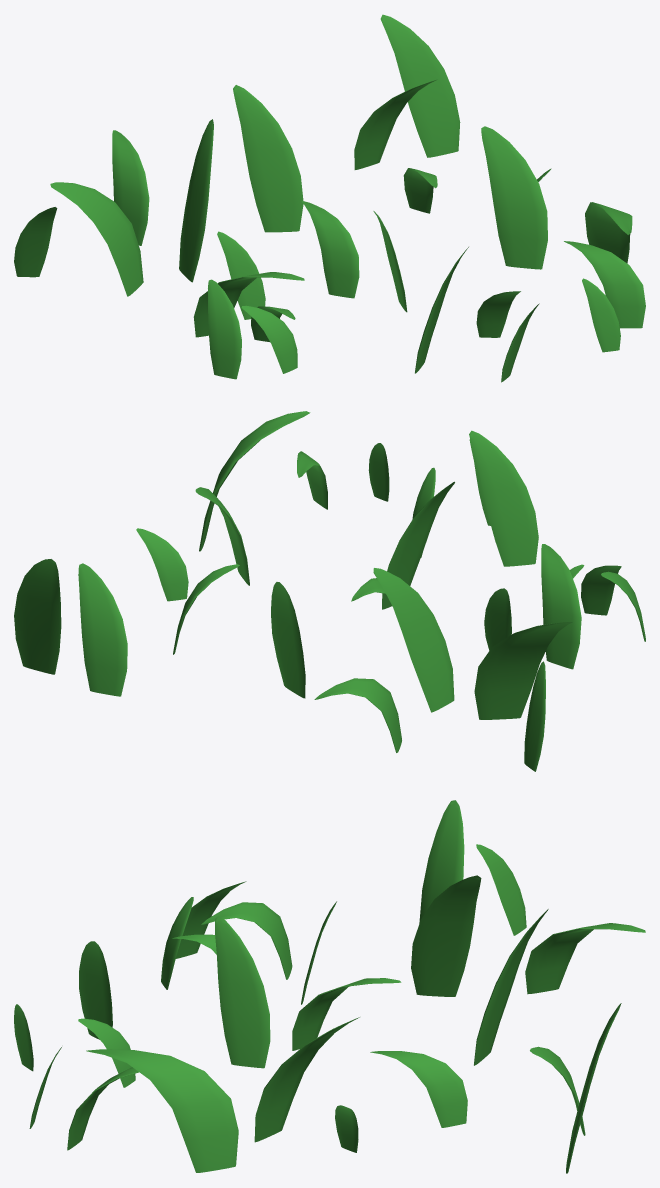
Rendered from grass clump 3.fbx.
3 views of the same model, one above another, from view 1: azimuth 30°, elevation 25°; view 2: azimuth 150°, elevation 25°; view 3: azimuth 270°, elevation 25° (orthographic). The views are drawn at different scales.
Parts seen in each view (by area): view 1: Grass Clump 3; view 2: Grass Clump 3; view 3: Grass Clump 3.
Boxes of the visible parts, x1,y1,x2,y2 form: Grass Clump 3: [14, 14, 645, 382]; Grass Clump 3: [14, 411, 645, 771]; Grass Clump 3: [14, 800, 645, 1173].
Bounding box in the file's own units: 196 × 52.76 × 209.
